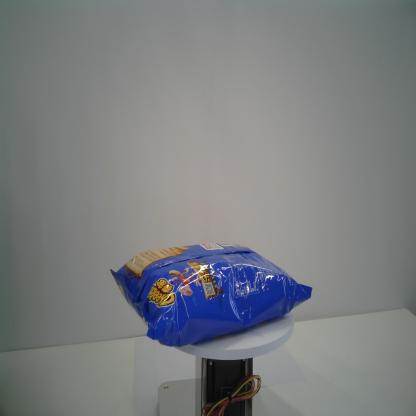Puffed Food: (109, 240, 312, 349)
